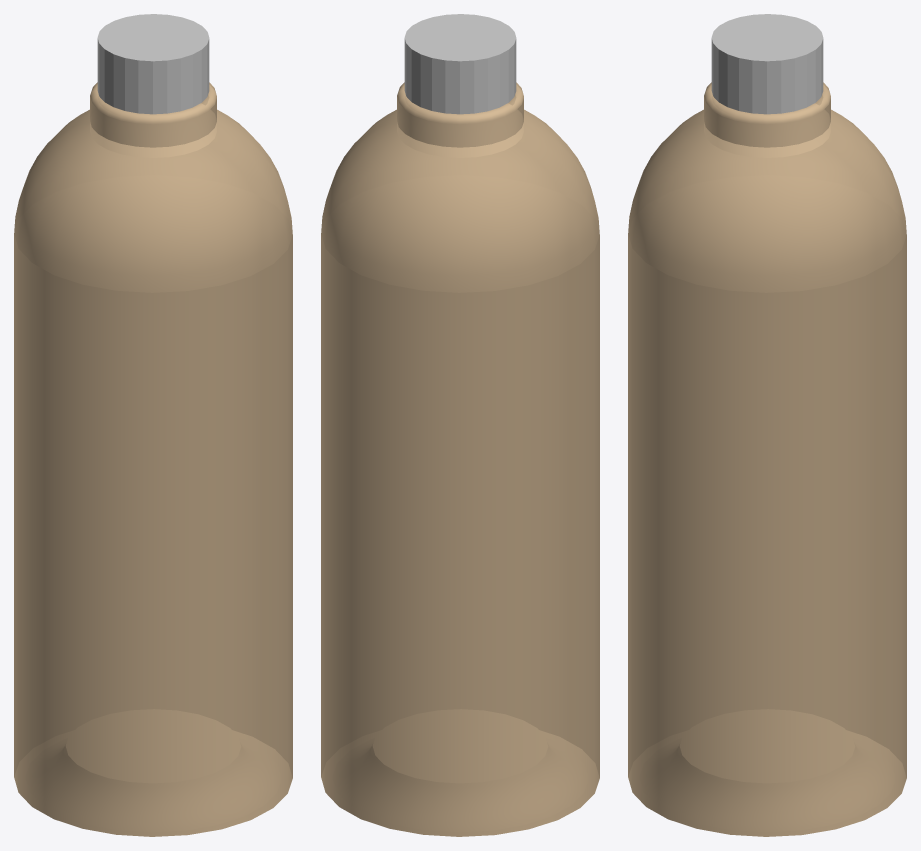
The picture shows the model from 3 angles, left to right: view 1: azimuth 30°, elevation 25°; view 2: azimuth 150°, elevation 25°; view 3: azimuth 270°, elevation 25°; orthographic projection.
Visible parts, largest first — view 1: mesh1_mesh1-geometry, mesh2_mesh2-geometry; view 2: mesh1_mesh1-geometry, mesh2_mesh2-geometry; view 3: mesh1_mesh1-geometry, mesh2_mesh2-geometry.
Boxes of the visible parts, x1,y1,x2,y2 form: mesh1_mesh1-geometry: (14,104,292,836); mesh2_mesh2-geometry: (90,14,216,157); mesh1_mesh1-geometry: (321,104,599,836); mesh2_mesh2-geometry: (397,14,523,157); mesh1_mesh1-geometry: (628,104,906,836); mesh2_mesh2-geometry: (704,14,830,157).
Bounding box in the file's own units: 0.3073 × 0.9007 × 0.3073.
